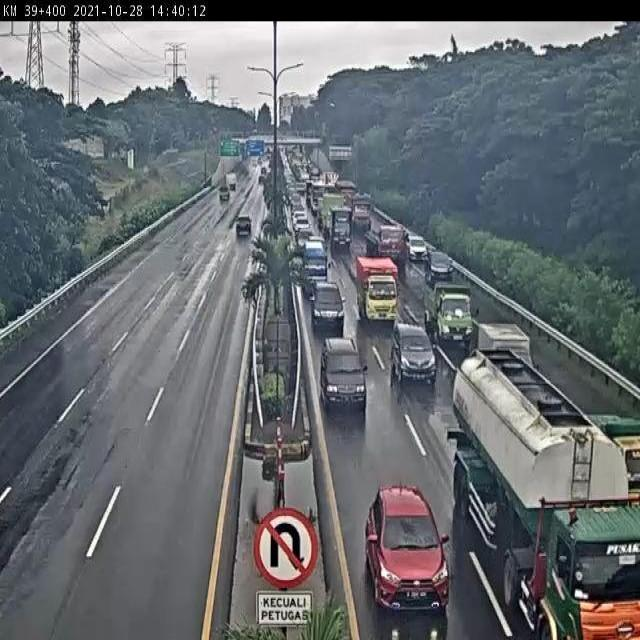ARABA: (362, 478, 455, 618), (317, 331, 375, 409), (387, 316, 440, 388), (309, 277, 346, 328), (425, 242, 453, 282), (404, 229, 429, 263), (234, 213, 252, 235), (296, 224, 314, 243)
KAMYONET: (581, 408, 640, 496), (419, 278, 477, 346), (351, 250, 402, 322), (474, 315, 533, 369), (358, 215, 403, 260)
OTOBUS: (302, 235, 329, 280)
TIR: (450, 353, 640, 639)
